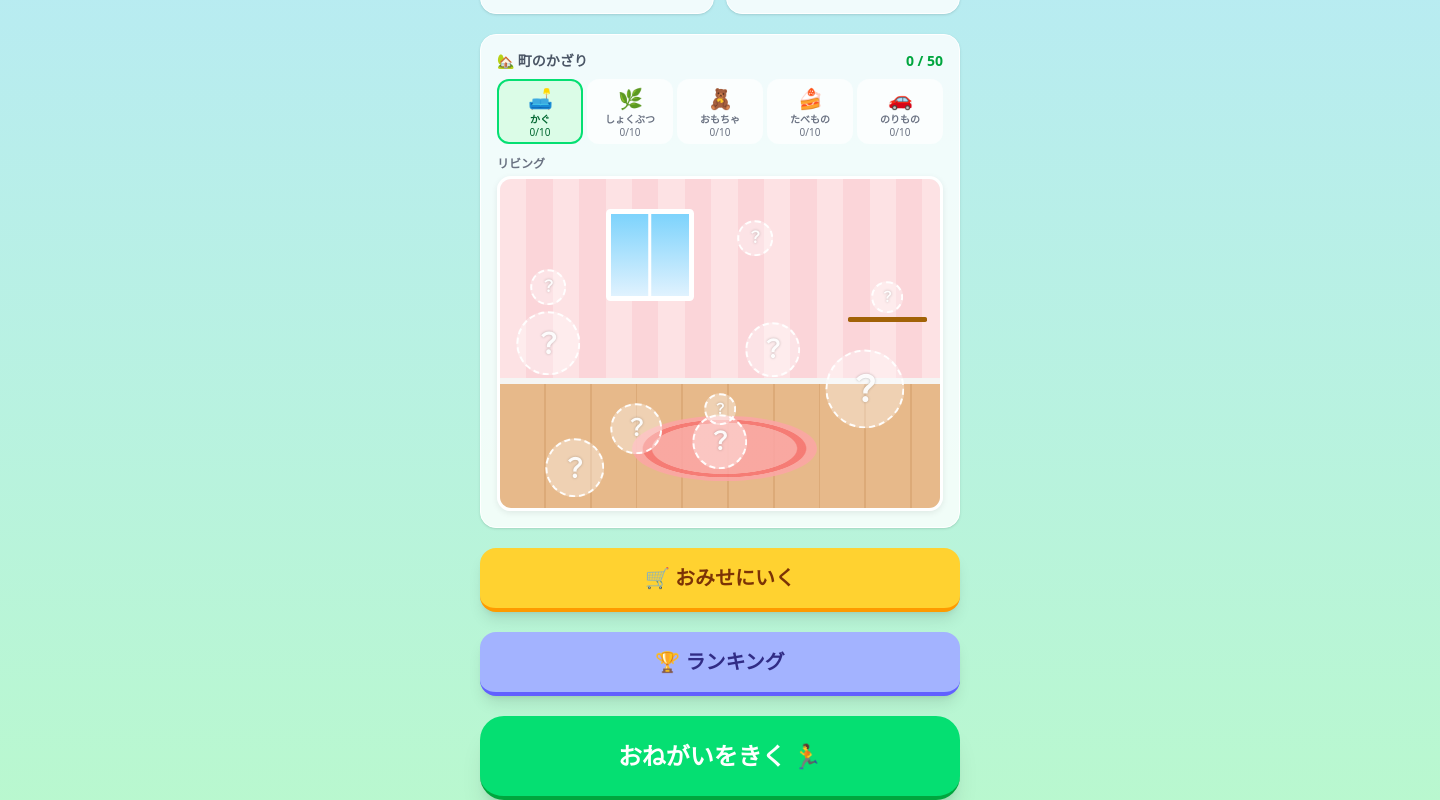
Scenario: ページ全体の画面遷移 › ホームの「おねがいをきく」を押すと、難易度選択画面が出る（すぐには依頼画面に進まない）
(page scrolled)
Click the button "おねがいをきく 🏃".
click(720, 758)  # box [480,716,960,799]
(page scrolled)
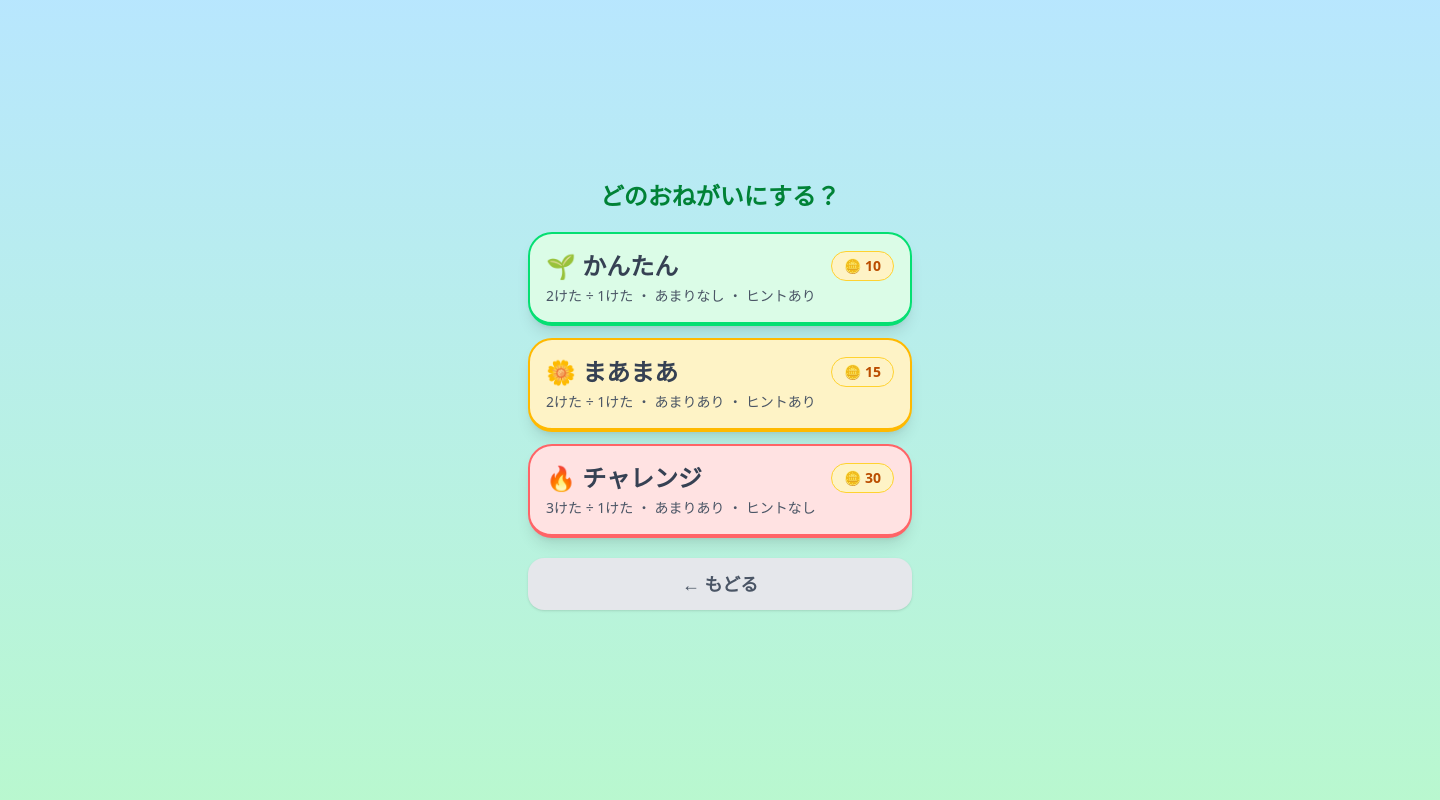
Now the heading "どのおねがいにする？" is shown, box [600,180,840,212]
